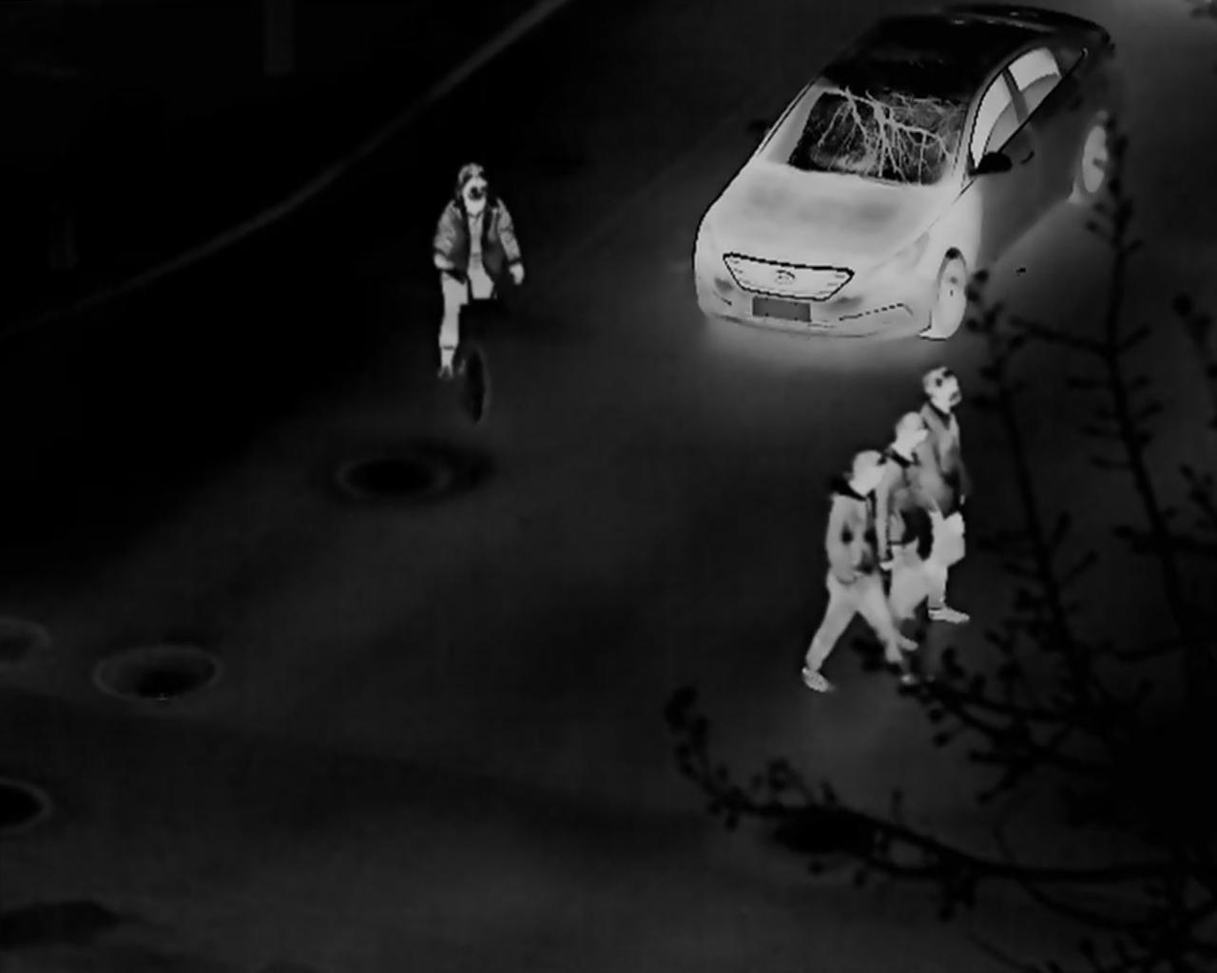person: (798, 449, 913, 695), (432, 163, 526, 380), (920, 362, 978, 626), (877, 412, 933, 653)
